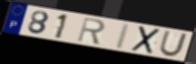1: (55, 13, 70, 40)
8: (28, 10, 51, 35)
I: (113, 22, 132, 51)
R: (76, 16, 107, 46)
U: (157, 30, 189, 58)
X: (130, 25, 163, 56)
